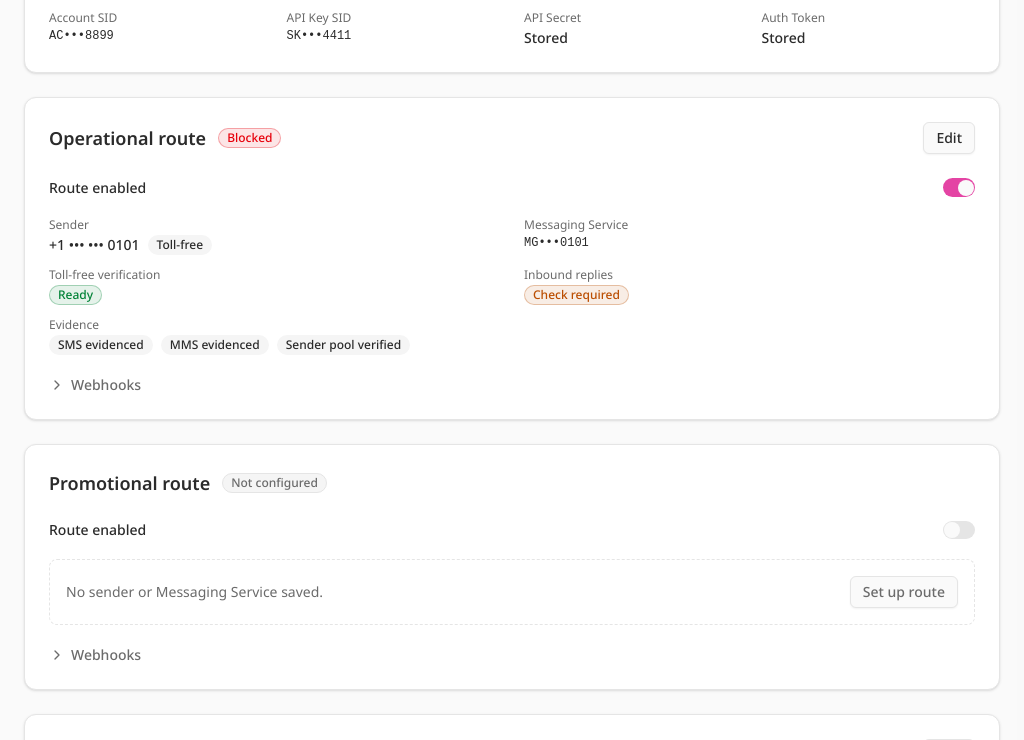
Test: Messaging integration settings page › keeps webhook URLs behind a disclosure with the shared copy button
(page scrolled)
Check: the field labelled "Operational inbound webhook URL" is not shown
Click the button "Webhooks" below "Sender pool" at (95, 385), box [49,375,141,395]
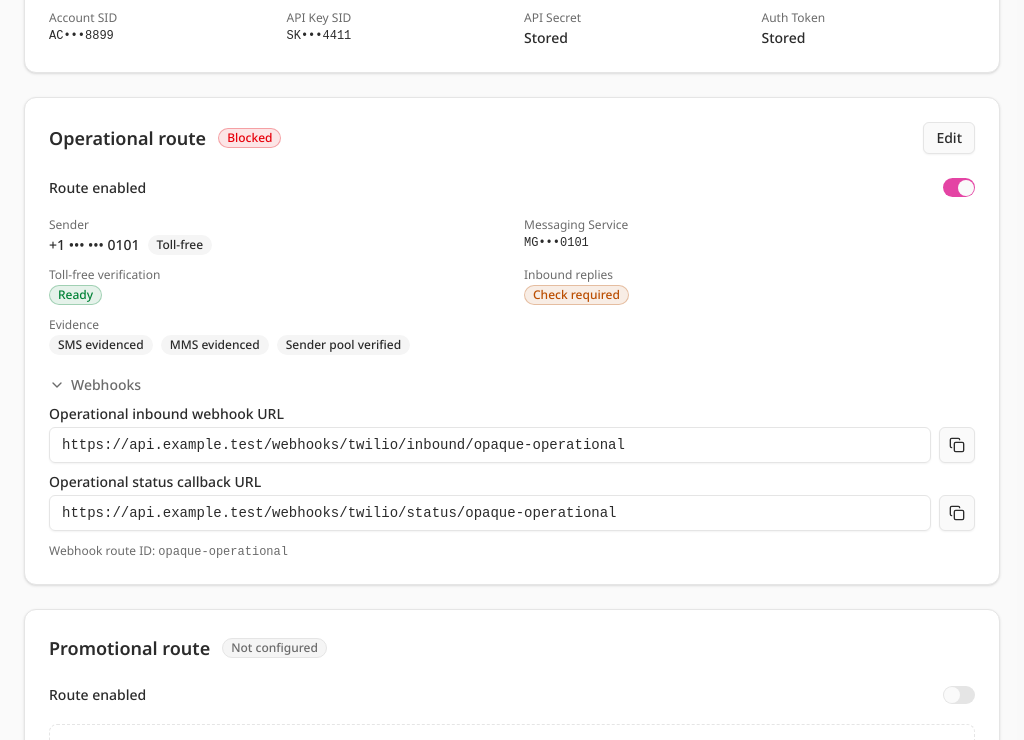
Check: the field labelled "Operational inbound webhook URL" holds "https://api.example.test/webhooks/twilio/inbound/opaque-operational", box [49,427,931,463]
Check: the button named "Copy Operational inbound webhook URL" is shown, box [939,427,975,463]
